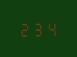four: (45, 19, 57, 36)
three: (32, 20, 44, 36)
two: (18, 20, 30, 37)
